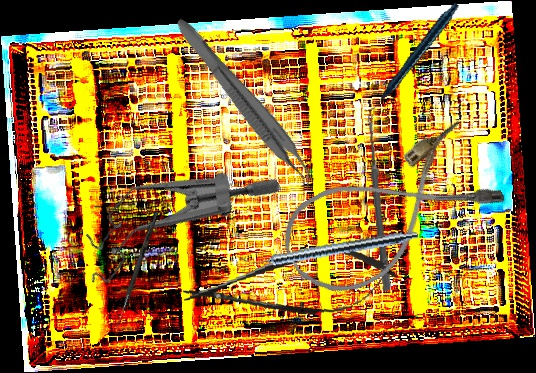Cannula: (269, 115, 510, 312)
Handpiece: (342, 2, 480, 113), (239, 225, 420, 273)
Hook Surgical: (114, 210, 159, 332)
Micro Scissor: (180, 241, 399, 329)
Speculum: (63, 108, 285, 336)
Surgical Spoon: (364, 114, 393, 291)
Tissue Forceps: (163, 14, 326, 195)
